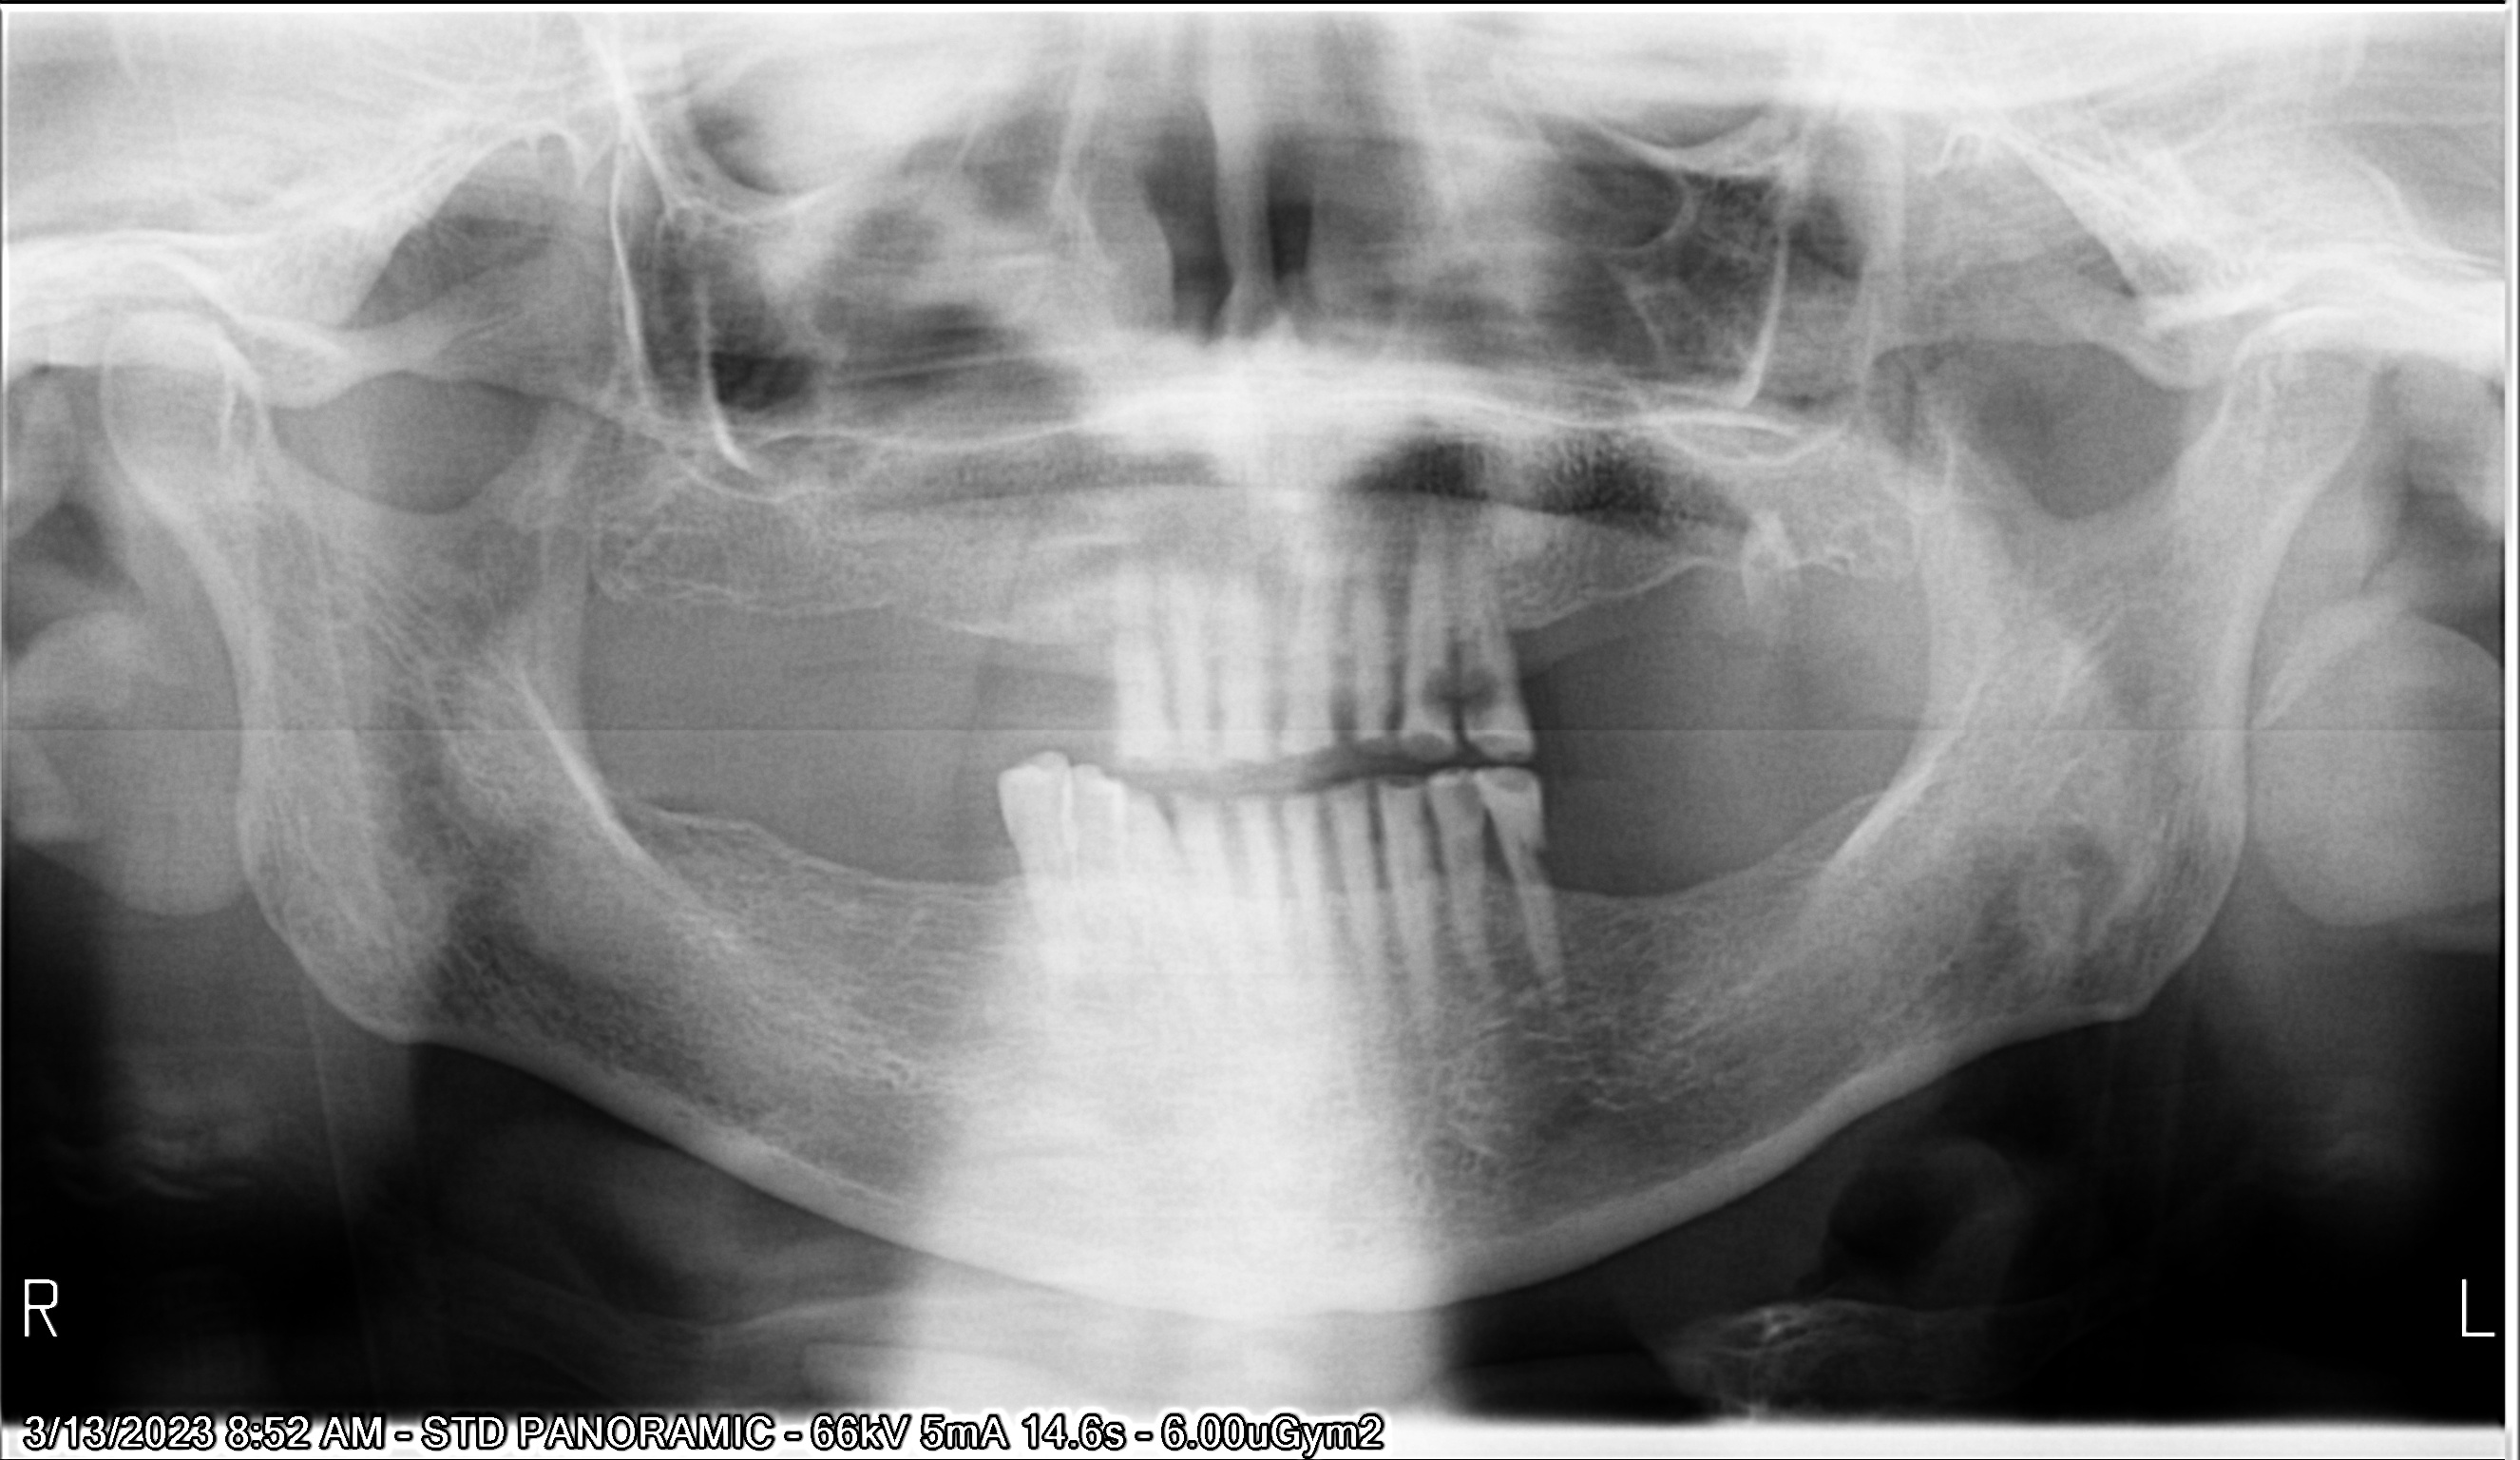BON: (1079, 631, 1155, 716), (1304, 819, 1360, 911), (1245, 631, 1299, 714), (1471, 820, 1523, 904), (1207, 834, 1256, 918), (1542, 813, 1587, 902), (1405, 812, 1448, 899), (1320, 634, 1369, 709), (1261, 836, 1303, 923), (1483, 605, 1532, 676), (1346, 820, 1384, 900)
CAR: (1452, 652, 1514, 746), (1516, 826, 1561, 899), (1450, 812, 1492, 890), (1412, 659, 1457, 728)
ROT: (1733, 499, 1841, 622)
